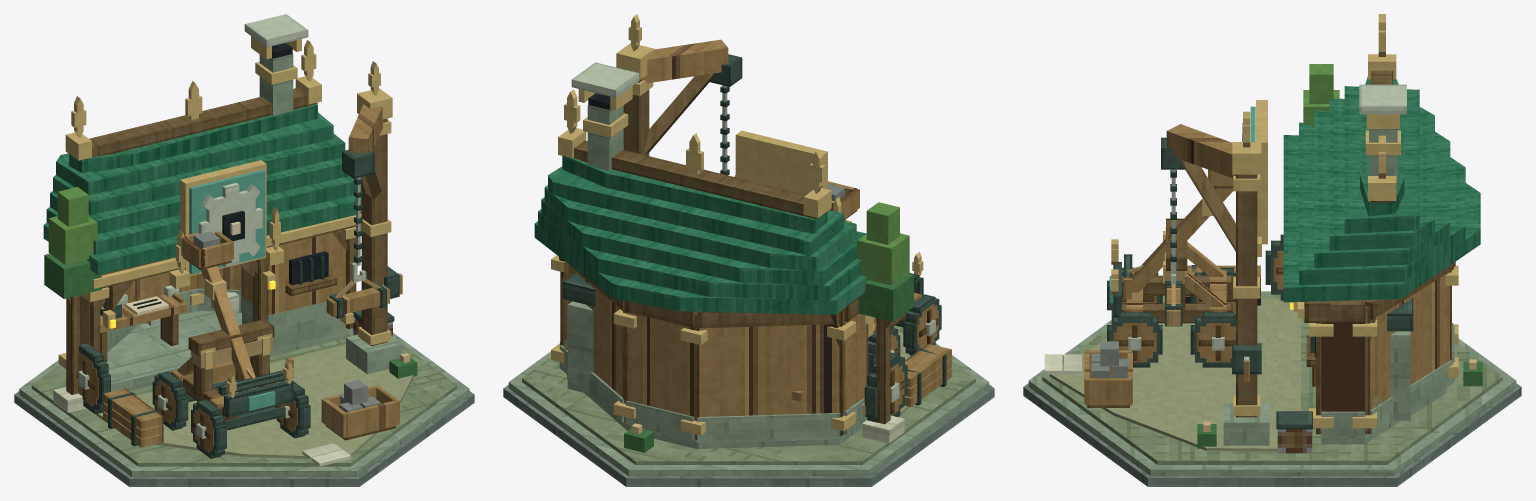
The model's file is elf_siege_arsenal_hex_v1.glb.
3 views of the same model, side by side, from view 1: azimuth 30°, elevation 25°; view 2: azimuth 150°, elevation 25°; view 3: azimuth 270°, elevation 25° (orthographic). The views are drawn at different scales.
Parts seen in each view (by area): view 1: Elf_Siege_Arsenal_Hex_V1_Roofs, Elf_Siege_Arsenal_Hex_V1_Workshop, Elf_Siege_Arsenal_Hex_V1_Equipment, Elf_Siege_Arsenal_Hex_V1_Foundation, Elf_Siege_Arsenal_Hex_V1_Catapult, Elf_Siege_Arsenal_Hex_V1_Details, Elf_Siege_Arsenal_Hex_V1_Courtyard, Elf_Siege_Arsenal_Hex_V1_Faction; view 2: Elf_Siege_Arsenal_Hex_V1_Roofs, Elf_Siege_Arsenal_Hex_V1_Workshop, Elf_Siege_Arsenal_Hex_V1_Foundation, Elf_Siege_Arsenal_Hex_V1_Equipment, Elf_Siege_Arsenal_Hex_V1_Details, Elf_Siege_Arsenal_Hex_V1_Catapult; view 3: Elf_Siege_Arsenal_Hex_V1_Roofs, Elf_Siege_Arsenal_Hex_V1_Foundation, Elf_Siege_Arsenal_Hex_V1_Equipment, Elf_Siege_Arsenal_Hex_V1_Workshop, Elf_Siege_Arsenal_Hex_V1_Courtyard, Elf_Siege_Arsenal_Hex_V1_Catapult, Elf_Siege_Arsenal_Hex_V1_Details.
Boxes of the visible parts, x1=… form: Elf_Siege_Arsenal_Hex_V1_Roofs: x1=43, y1=14, x2=361, y2=274; Elf_Siege_Arsenal_Hex_V1_Workshop: x1=58, y1=36, x2=361, y2=391; Elf_Siege_Arsenal_Hex_V1_Equipment: x1=76, y1=61, x2=403, y2=447; Elf_Siege_Arsenal_Hex_V1_Foundation: x1=14, y1=328, x2=474, y2=486; Elf_Siege_Arsenal_Hex_V1_Catapult: x1=152, y1=231, x2=310, y2=458; Elf_Siege_Arsenal_Hex_V1_Details: x1=44, y1=43, x2=417, y2=412; Elf_Siege_Arsenal_Hex_V1_Courtyard: x1=89, y1=345, x2=413, y2=466; Elf_Siege_Arsenal_Hex_V1_Faction: x1=189, y1=169, x2=275, y2=410; Elf_Siege_Arsenal_Hex_V1_Roofs: x1=534, y1=62, x2=868, y2=314; Elf_Siege_Arsenal_Hex_V1_Workshop: x1=551, y1=86, x2=874, y2=448; Elf_Siege_Arsenal_Hex_V1_Foundation: x1=503, y1=325, x2=994, y2=486; Elf_Siege_Arsenal_Hex_V1_Equipment: x1=562, y1=14, x2=951, y2=422; Elf_Siege_Arsenal_Hex_V1_Details: x1=588, y1=93, x2=913, y2=452; Elf_Siege_Arsenal_Hex_V1_Catapult: x1=828, y1=181, x2=941, y2=374; Elf_Siege_Arsenal_Hex_V1_Roofs: x1=1283, y1=14, x2=1480, y2=302; Elf_Siege_Arsenal_Hex_V1_Foundation: x1=1023, y1=291, x2=1521, y2=486; Elf_Siege_Arsenal_Hex_V1_Equipment: x1=1084, y1=111, x2=1413, y2=445; Elf_Siege_Arsenal_Hex_V1_Workshop: x1=1297, y1=114, x2=1458, y2=444; Elf_Siege_Arsenal_Hex_V1_Courtyard: x1=1044, y1=298, x2=1300, y2=451; Elf_Siege_Arsenal_Hex_V1_Catapult: x1=1107, y1=169, x2=1235, y2=367; Elf_Siege_Arsenal_Hex_V1_Details: x1=1197, y1=64, x2=1482, y2=453.
Bounding box in the file's own units: 1.59 × 1.41 × 1.84.
Materials: 1 (1 with a texture image).
